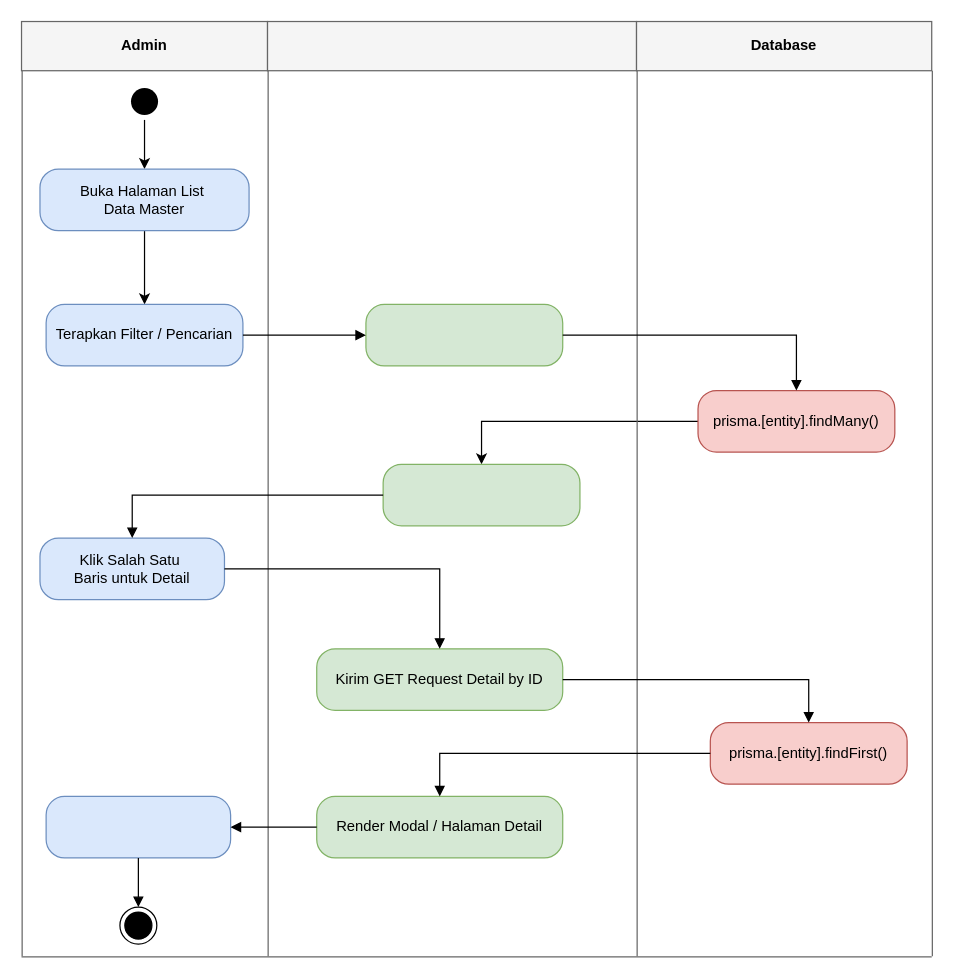
Some shapes in this 954 by 979 pixel diagram are drawn without their labels. Here are the shapes that lost their labels. From the top down, the centre of each, then its label:
At (451,45): "Sistem (Backend)".
At (464,334): "Kirim GET Request List Data".
At (481,494): "Render Tabel Data & Pagination".
At (138,826): "Lihat Informasi Detail Lengkap".
